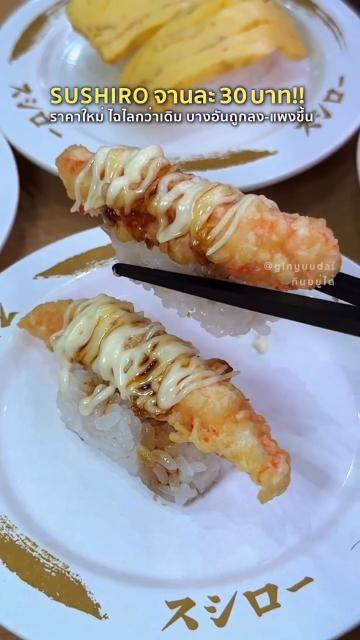janwhite: (0, 513, 360, 640), (290, 330, 360, 514), (309, 1, 360, 156), (0, 261, 29, 516), (1, 0, 47, 157)
